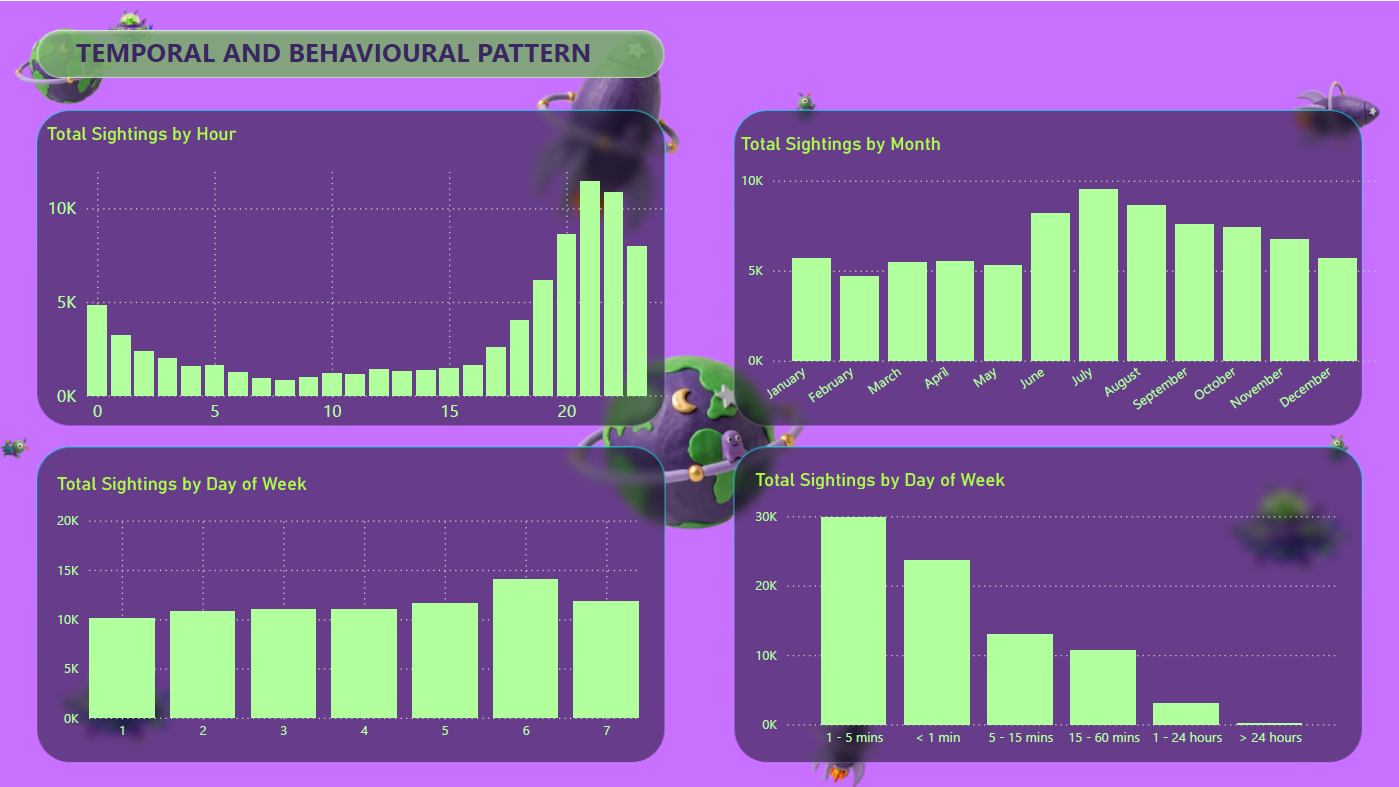

This screenshot's page, from the dashboard's own definition file:
{"tool":"powerbi","page":{"name":"Page 2","canvas":[1280,720],"ordinal":1},"visuals":[{"type":"lineClusteredColumnComboChart","fields":{"Category":["powerbi_ufo_sightings_final.Hour"],"Y":["powerbi_ufo_sightings_final.Total Sightings"]},"box":[37.8,111.1,581.1,285.6],"z":0},{"type":"lineClusteredColumnComboChart","fields":{"Category":["powerbi_ufo_sightings_final.Month"],"Y":["powerbi_ufo_sightings_final.Total Sightings"]},"box":[673.3,120,591.1,276.7],"z":1000},{"type":"lineClusteredColumnComboChart","title":"Total Sightings by Day of Week","fields":{"Category":["powerbi_ufo_sightings_final.Day_of_Week_Num"],"Y":["powerbi_ufo_sightings_final.Total Sightings"]},"box":[46.7,431.1,542.2,254.4],"z":2000},{"type":"lineClusteredColumnComboChart","title":"Total Sightings by Day of Week","fields":{"Category":["powerbi_ufo_sightings_final.Duration_Group"],"Y":["powerbi_ufo_sightings_final.Total Sightings"]},"box":[685.6,426.7,542.2,264.4],"z":3000},{"type":"textbox","box":[37.8,24.4,534.4,70],"z":3001}]}

Visuals, with their boxes in screenshot pixels (x1, y1, x2, y2), scaled from the page's 1280x720 canvas onto the 1399x787 screenshot:
lineClusteredColumnComboChart - powerbi_ufo_sightings_final.Hour x powerbi_ufo_sightings_final.Total Sightings: bbox=[41, 121, 676, 434]
lineClusteredColumnComboChart - powerbi_ufo_sightings_final.Month x powerbi_ufo_sightings_final.Total Sightings: bbox=[736, 131, 1382, 434]
"Total Sightings by Day of Week" lineClusteredColumnComboChart: bbox=[51, 471, 644, 749]
"Total Sightings by Day of Week" lineClusteredColumnComboChart: bbox=[749, 466, 1342, 755]
textbox: bbox=[41, 27, 625, 103]
